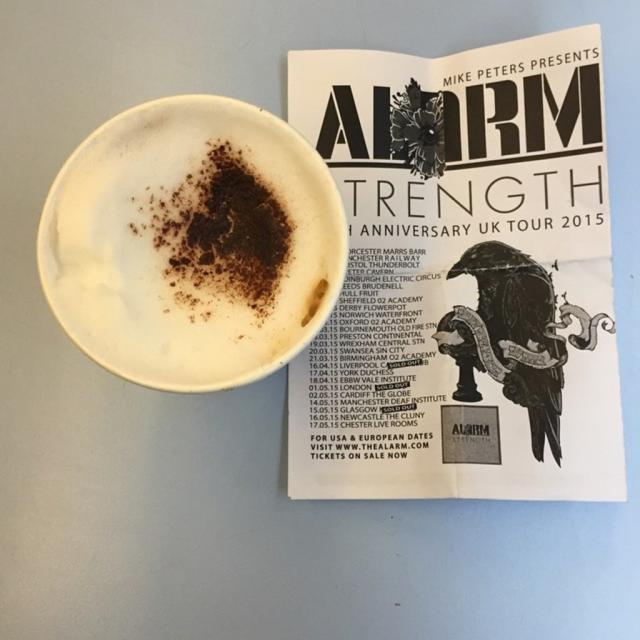Coffee: (42, 102, 339, 386)
